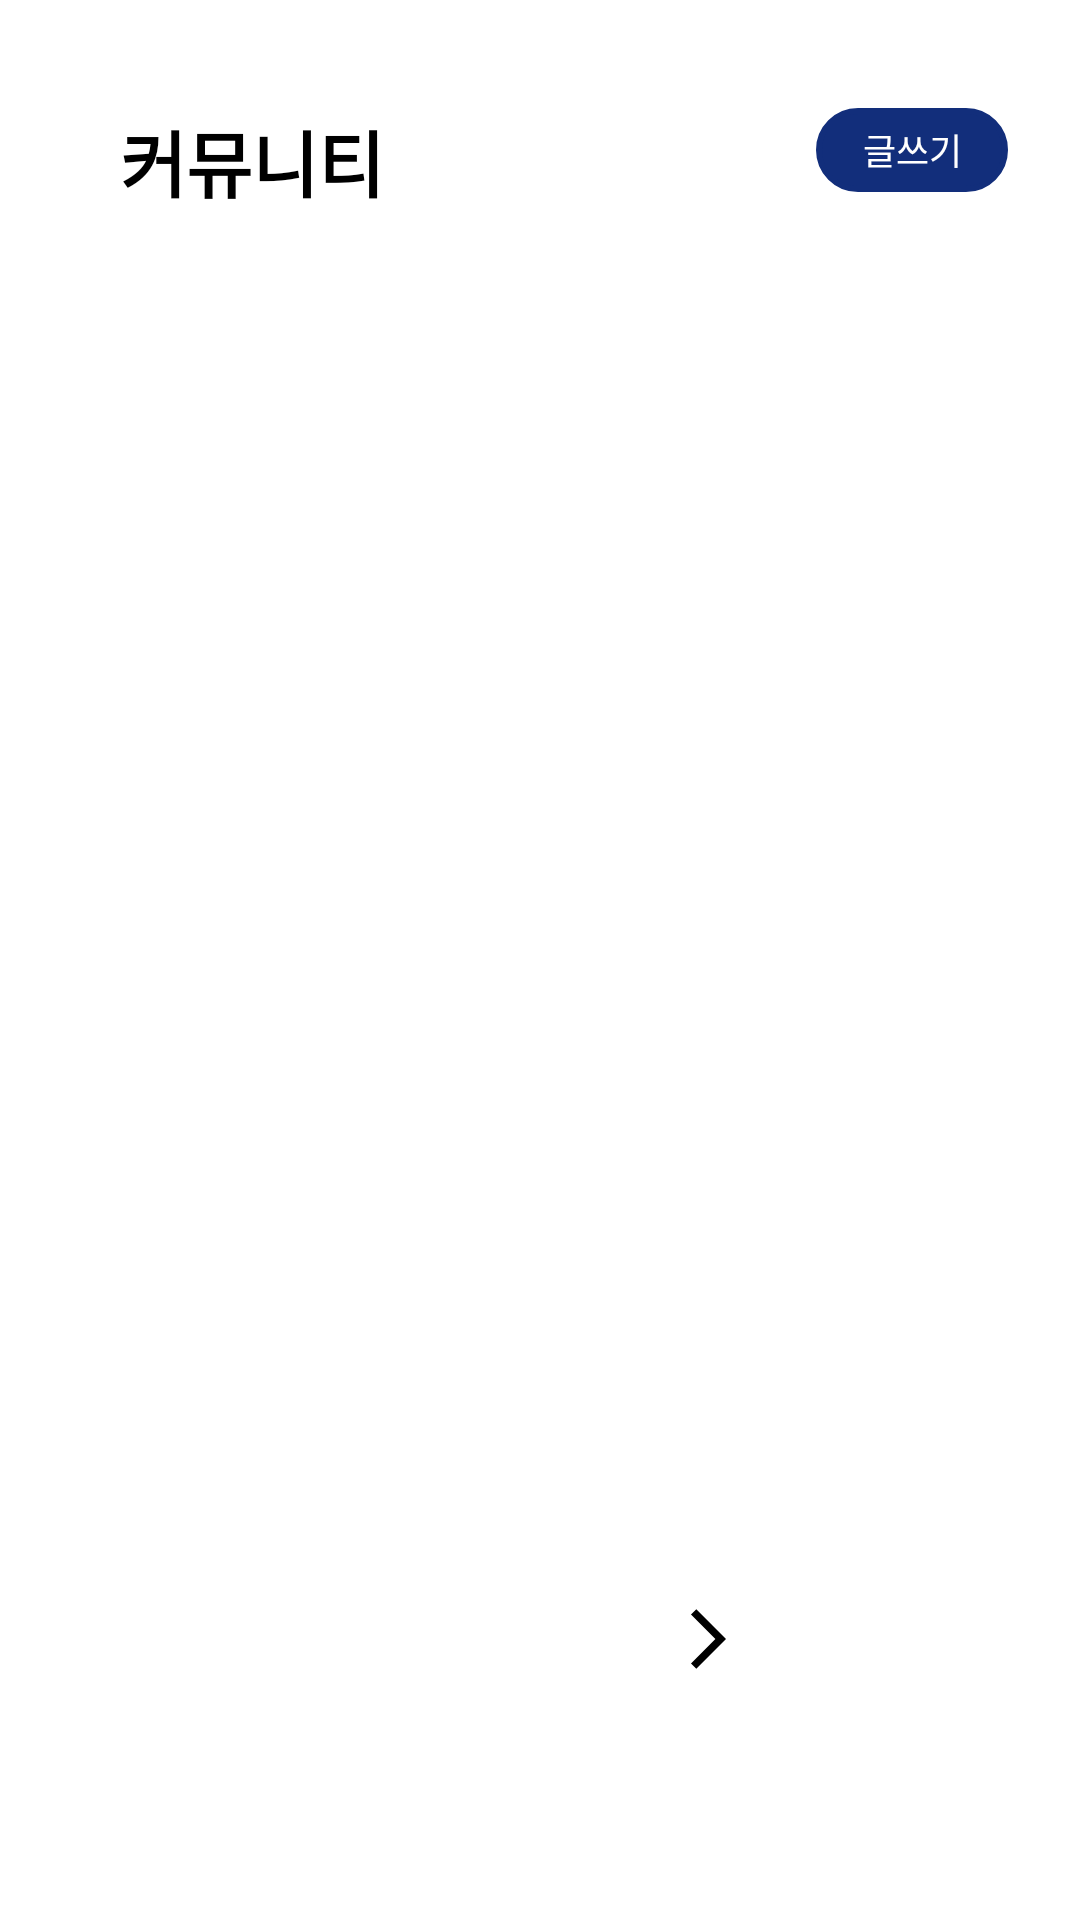

Icons on this 1080×1920 Android screen, each with its box as (x1, y1, x2, y2):
arrow next: (691, 1609, 726, 1669)
